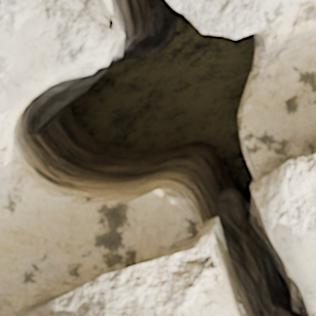broken_brick: (15, 231, 224, 315), (0, 0, 121, 126), (252, 153, 315, 315), (170, 0, 310, 37)
crack: (1, 0, 314, 315)
